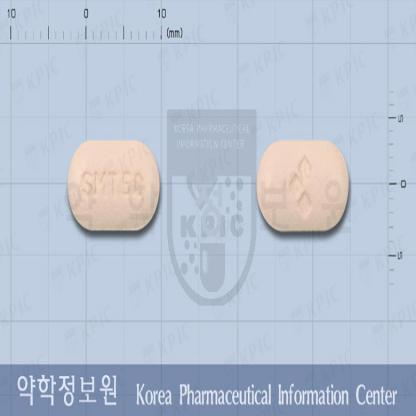pill: (254, 138, 350, 231), (67, 137, 160, 231)
